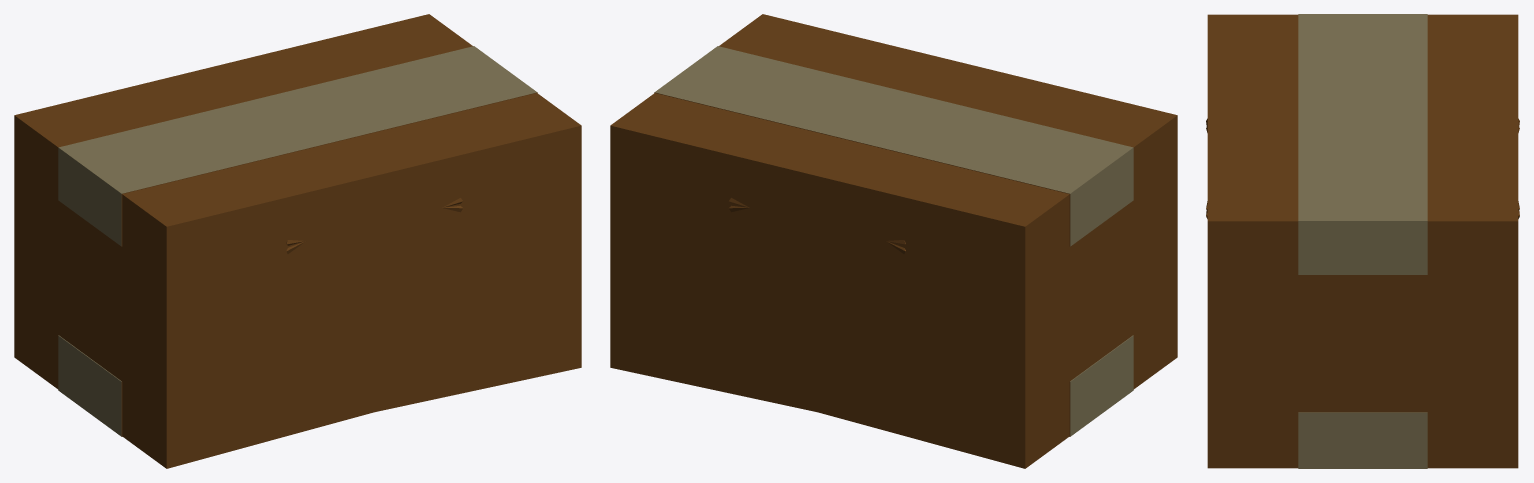
File: Caixa 3.fbx
3 views of the same model, side by side, from view 1: azimuth 30°, elevation 25°; view 2: azimuth 150°, elevation 25°; view 3: azimuth 270°, elevation 25° (orthographic). The views are drawn at different scales.
Visible parts, largest first — view 1: Cube.005; view 2: Cube.005; view 3: Cube.005.
Part boxes in pixels (x1=…): Cube.005: x1=14, y1=14, x2=581, y2=468; Cube.005: x1=610, y1=14, x2=1177, y2=468; Cube.005: x1=1206, y1=14, x2=1519, y2=468.
Bounding box in the file's own units: 360 × 201 × 230.
